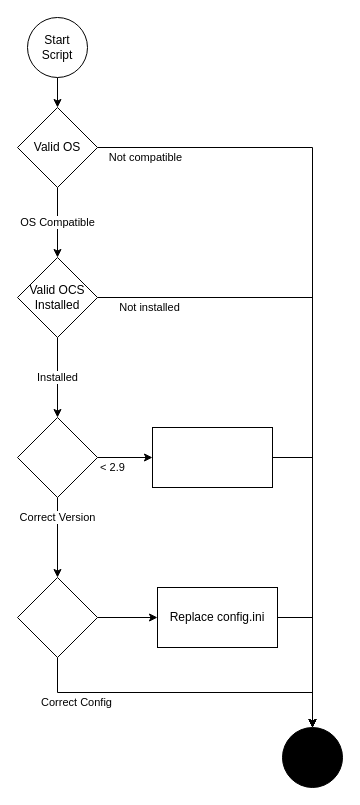
Some shapes in this 360 by 805 pixel diagram are drawn without their labels. Each missing label, with the centre of its shape:
Uninstall OCS Agent: [212,457]
Valid a OCS Config .ini: [57,617]
Valid a OCS Version: [57,457]
